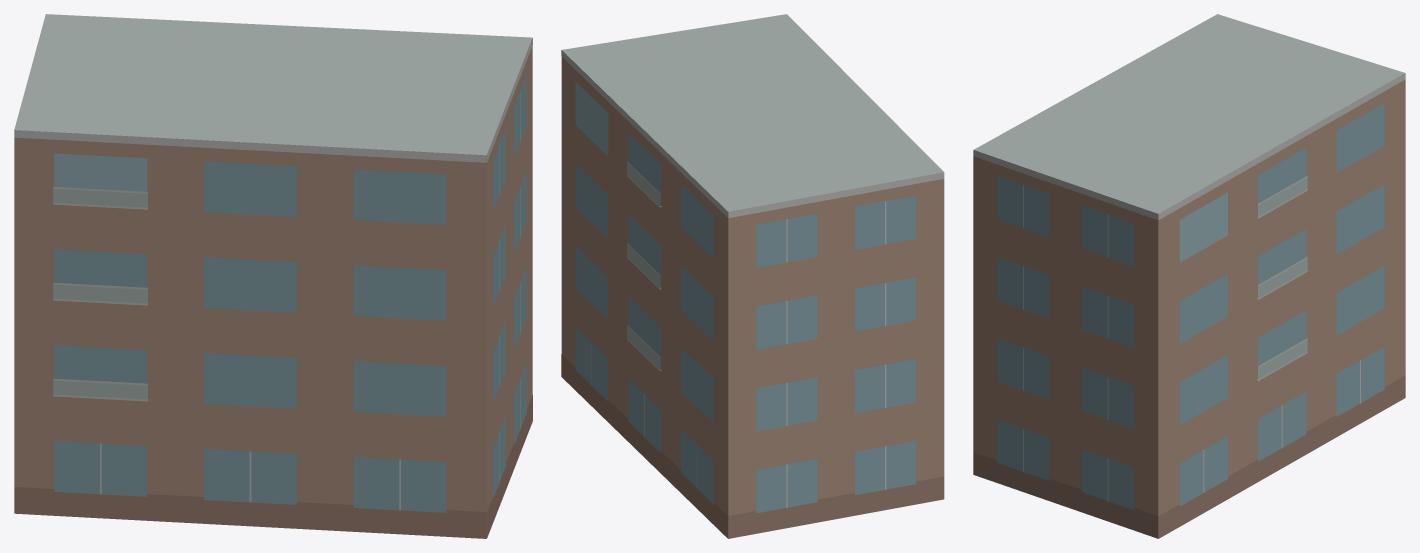
File: survey-upis-32888595.glb
3 views of the same model, side by side, from view 1: azimuth 30°, elevation 25°; view 2: azimuth 150°, elevation 25°; view 3: azimuth 270°, elevation 25° (orthographic). The views are drawn at different scales.
Visible parts, largest first — view 1: survey-upis-32888595.tmp; view 2: survey-upis-32888595.tmp; view 3: survey-upis-32888595.tmp.
Boxes of the visible parts, x1,y1,x2,y2 form: survey-upis-32888595.tmp: (14,14,532,538); survey-upis-32888595.tmp: (561,14,944,538); survey-upis-32888595.tmp: (973,14,1405,538).
Bounding box in the file's own units: 16.38 × 12.4 × 14.95.
